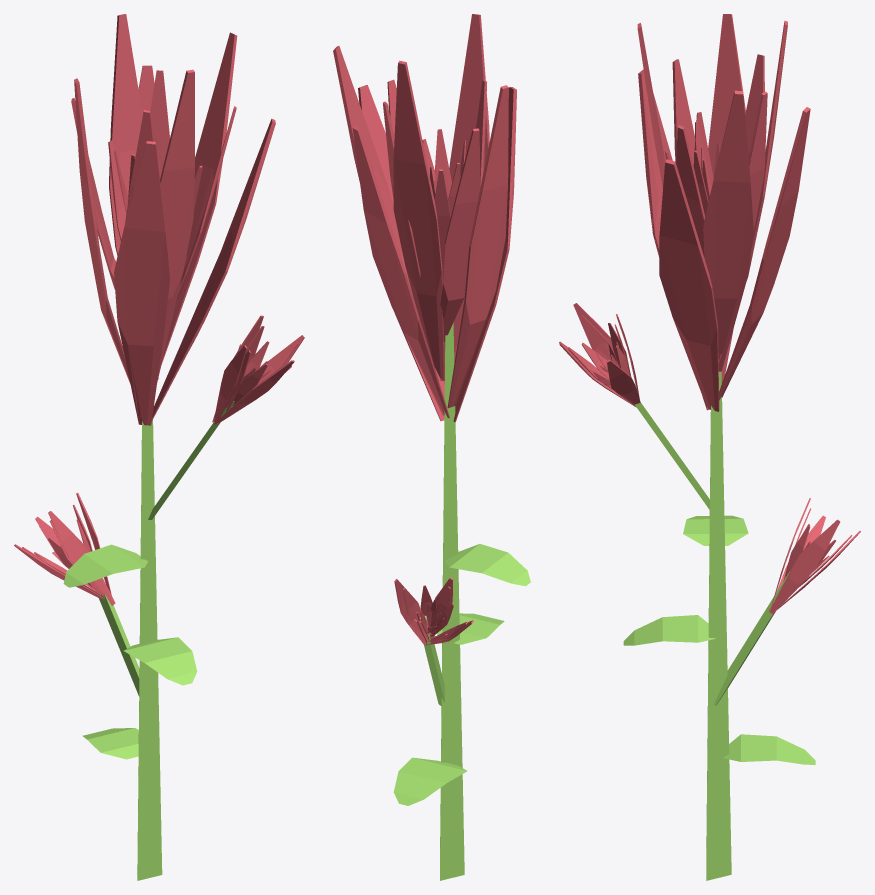
File: INDIANPAINT_V1.fbx
The picture shows the model from 3 angles, left to right: view 1: azimuth 30°, elevation 25°; view 2: azimuth 150°, elevation 25°; view 3: azimuth 270°, elevation 25°; orthographic projection. The views are drawn at different scales.
Parts seen in each view (by area): view 1: Plane, Cylinder, Plane.001, Plane.002, Plane.004, Plane.005, Plane.003, Cylinder.002, Cylinder.001; view 2: Plane, Cylinder, Plane.002, Plane.003, Plane.005, Plane.004, Cylinder.002; view 3: Plane, Cylinder, Plane.001, Plane.002, Plane.003, Plane.004, Plane.005, Cylinder.002, Cylinder.001.
Part boxes in pixels (x1=…): Plane: x1=71, y1=14, x2=275, y2=425; Cylinder: x1=137, y1=420, x2=162, y2=880; Plane.001: x1=212, y1=315, x2=304, y2=424; Plane.002: x1=14, y1=493, x2=115, y2=605; Plane.004: x1=124, y1=637, x2=197, y2=685; Plane.005: x1=63, y1=544, x2=147, y2=587; Plane.003: x1=82, y1=728, x2=138, y2=759; Cylinder.002: x1=96, y1=591, x2=139, y2=696; Cylinder.001: x1=148, y1=401, x2=234, y2=519; Plane: x1=333, y1=14, x2=516, y2=422; Cylinder: x1=440, y1=322, x2=464, y2=880; Plane.002: x1=394, y1=577, x2=473, y2=645; Plane.003: x1=393, y1=757, x2=467, y2=805; Plane.005: x1=444, y1=544, x2=530, y2=586; Plane.004: x1=437, y1=613, x2=504, y2=644; Cylinder.002: x1=420, y1=616, x2=444, y2=705; Plane: x1=637, y1=14, x2=810, y2=411; Cylinder: x1=706, y1=371, x2=731, y2=880; Plane.001: x1=559, y1=303, x2=640, y2=407; Plane.002: x1=769, y1=498, x2=860, y2=613; Plane.003: x1=724, y1=734, x2=815, y2=764; Plane.004: x1=623, y1=615, x2=715, y2=645; Plane.005: x1=683, y1=515, x2=748, y2=545; Cylinder.002: x1=714, y1=571, x2=789, y2=705; Cylinder.001: x1=635, y1=402, x2=709, y2=509.
Size of the model in its own units: 28.2 by 118 by 37.8.
